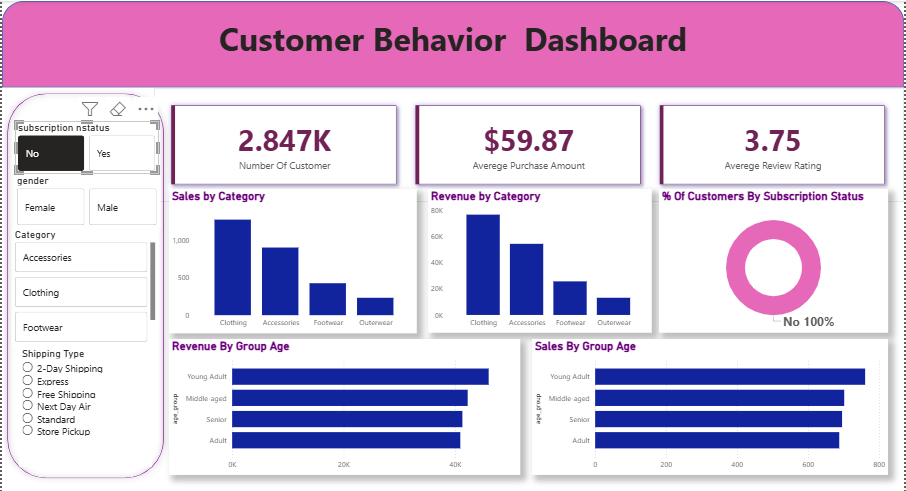

Layout of this report page (visuals, bound fields, positions):
{"tool":"powerbi","page":{"name":"Page 1","canvas":[1500,820],"ordinal":0},"visuals":[{"type":"cardVisual","fields":{"Data":["customer.Number Of Customer","customer.Averege Purchase Amount","customer.Averege Review Rating"]},"box":[253.2,143.9,1246.8,189.9],"z":0},{"type":"shape","box":[0,0,1500,143.7],"z":1000},{"type":"textbox","box":[0,19.7,1500,124],"z":2000},{"type":"clusteredColumnChart","title":"Revenue by Category","fields":{"Y":["Sum(customer.purchase_amount)"],"Category":["customer.category"]},"box":[707.8,312.7,372.1,239.8],"z":3000},{"type":"clusteredColumnChart","title":"Sales by Category","fields":{"Category":["customer.category"],"Y":["CountNonNull(customer.customer_id)"]},"box":[278.1,312.7,412.4,239.8],"z":4000},{"type":"donutChart","title":"% Of Customers By Subscription Status","fields":{"Category":["customer.subscription_status"],"Y":["CountNonNull(customer.customer_id)"]},"box":[1104.9,312.7,381.7,239.8],"z":5000},{"type":"shape","box":[0,143.9,278.1,657.9],"z":6000},{"type":"advancedSlicerVisual","fields":{"Values":["customer.subscription_status"]},"box":[21.1,199.5,239.8,88.2],"z":7000},{"type":"advancedSlicerVisual","fields":{"Values":["customer.gender"]},"box":[19.2,287.7,243.6,90.2],"z":8000},{"type":"advancedSlicerVisual","fields":{"Values":["customer.category"]},"box":[17.3,377.9,243.6,197.6],"z":9000},{"type":"listSlicer","fields":{"Values":["customer.shipping_type"]},"box":[28.8,575.4,220.6,199.5],"z":10000},{"type":"clusteredBarChart","title":"Revenue By Group Age","fields":{"Y":["Sum(customer.purchase_amount)"],"Category":["customer.age_group"]},"box":[278.1,575.4,583.1,226.3],"z":11000},{"type":"clusteredBarChart","title":"Sales By Group Age","fields":{"Y":["CountNonNull(customer.customer_id)"],"Category":["customer.age_group"]},"box":[893.9,575.4,592.7,226.3],"z":12000}]}

Visuals, with their boxes in screenshot pixels (x1, y1, x2, y2), scaled from the page's 1500x820 canvas onto the 906x491 screenshot:
cardVisual - customer.Number Of Customer x customer.Averege Purchase Amount: Rect(153, 86, 905, 200)
shape: Rect(0, 0, 905, 86)
textbox: Rect(0, 12, 905, 86)
"Revenue by Category" clusteredColumnChart: Rect(428, 187, 652, 331)
"Sales by Category" clusteredColumnChart: Rect(168, 187, 417, 331)
"% Of Customers By Subscription Status" donutChart: Rect(667, 187, 898, 331)
shape: Rect(0, 86, 168, 480)
advancedSlicerVisual - customer.subscription_status: Rect(13, 119, 158, 172)
advancedSlicerVisual - customer.gender: Rect(12, 172, 159, 226)
advancedSlicerVisual - customer.category: Rect(10, 226, 158, 345)
listSlicer - customer.shipping_type: Rect(17, 345, 151, 464)
"Revenue By Group Age" clusteredBarChart: Rect(168, 345, 520, 480)
"Sales By Group Age" clusteredBarChart: Rect(540, 345, 898, 480)
